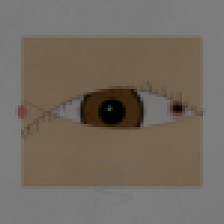foreign_body_visible: (154, 89, 202, 128)
